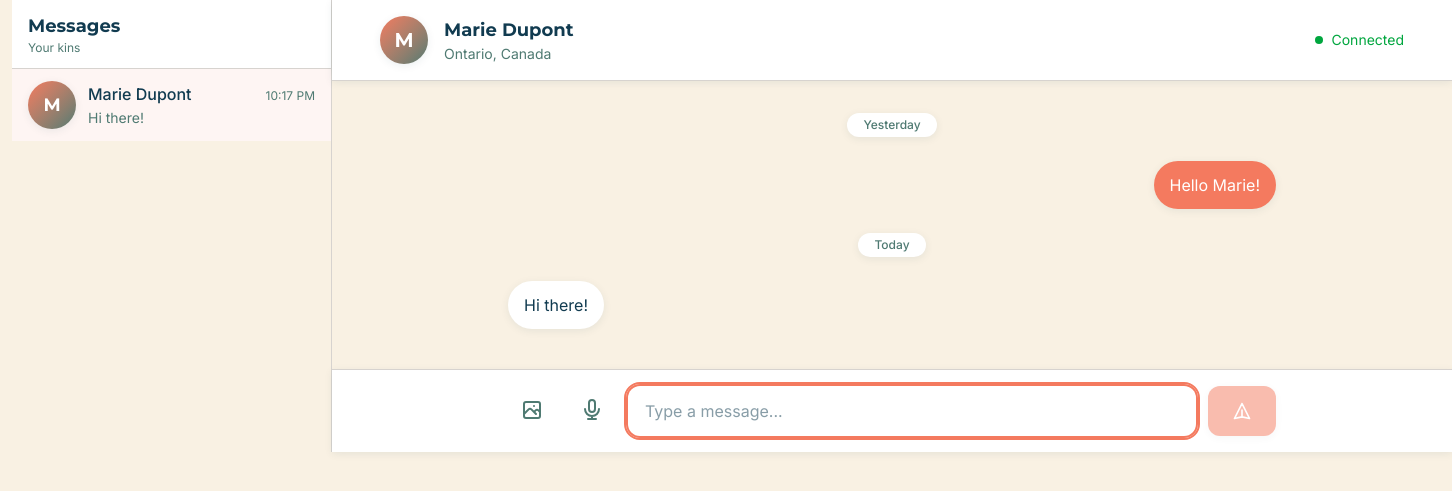
Scenario: Chat › reveals exact time only after clicking a message
Check: the text "Hello Marie!" is shown, box [1170,173,1260,197]
Click the button "Hello Marie!". click: (1215, 185)
box: [1154,161,1276,209]
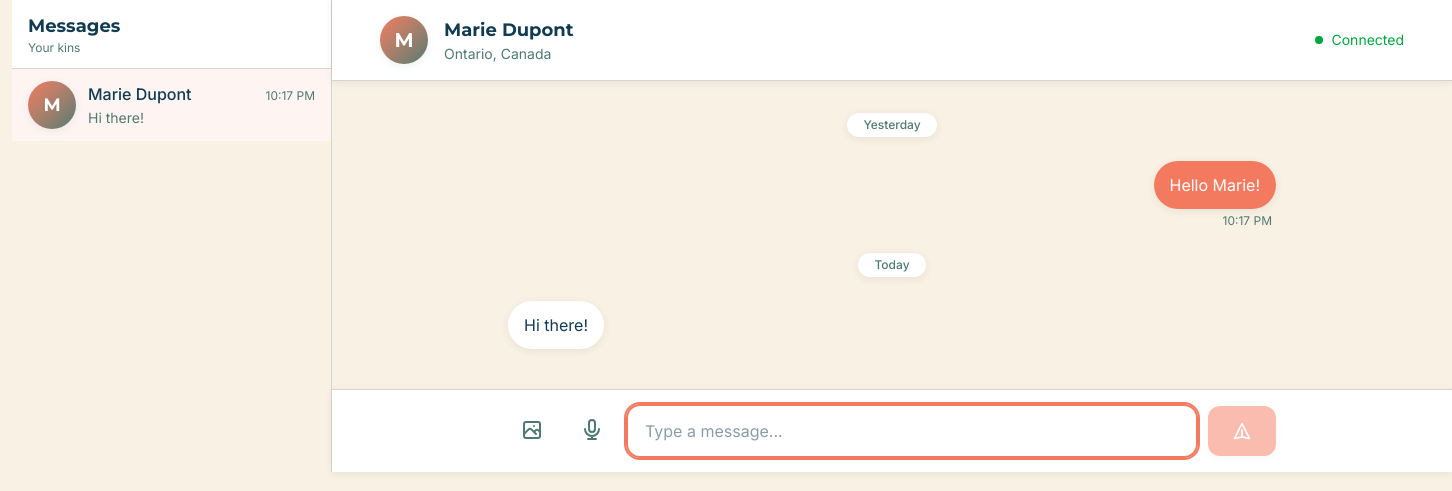
Check: the text with test id "chat-message-timestamp" reads "10:17 PM", box [1218,213,1276,229]
